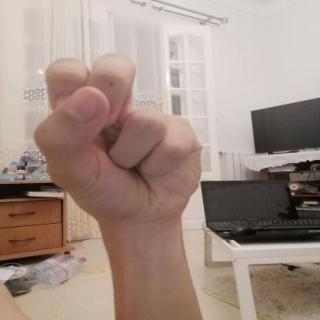QAAF: (32, 45, 208, 230)
